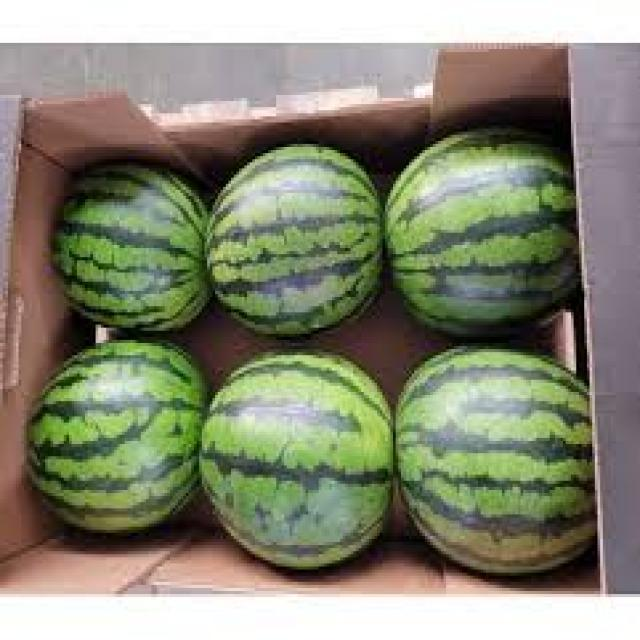watermelon: (393, 340, 595, 576), (197, 346, 393, 570), (382, 122, 582, 337), (24, 337, 210, 533), (202, 141, 382, 337), (48, 156, 210, 331)
